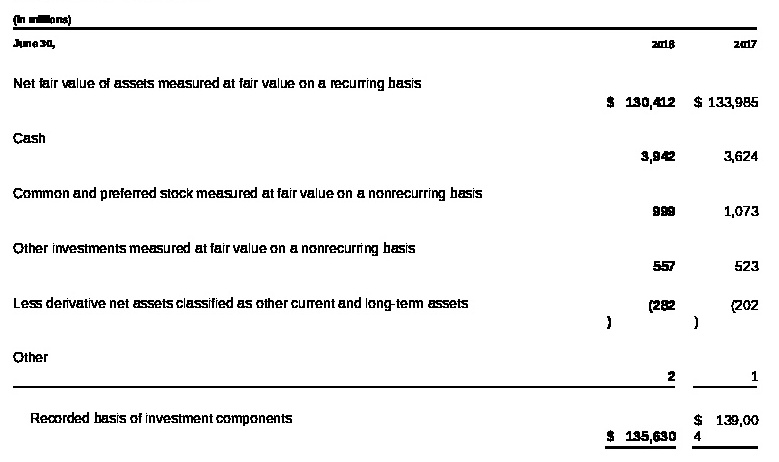table: (0, 0, 779, 462)
